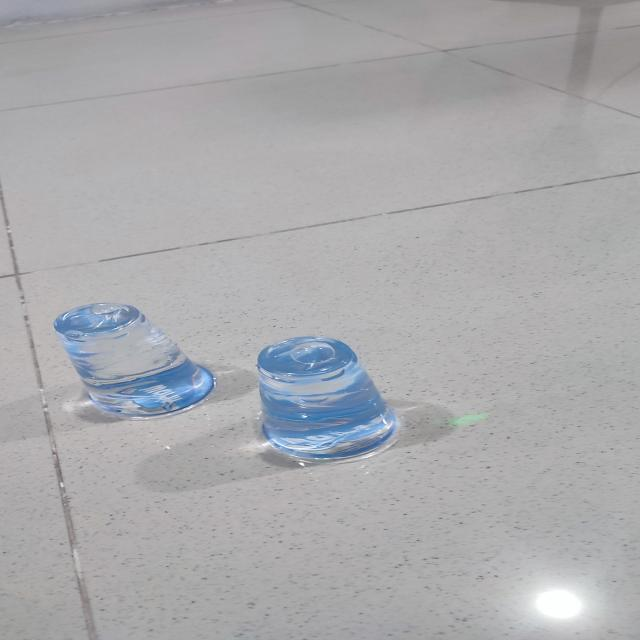air gelas: (231, 329, 404, 466), (47, 295, 222, 424)
